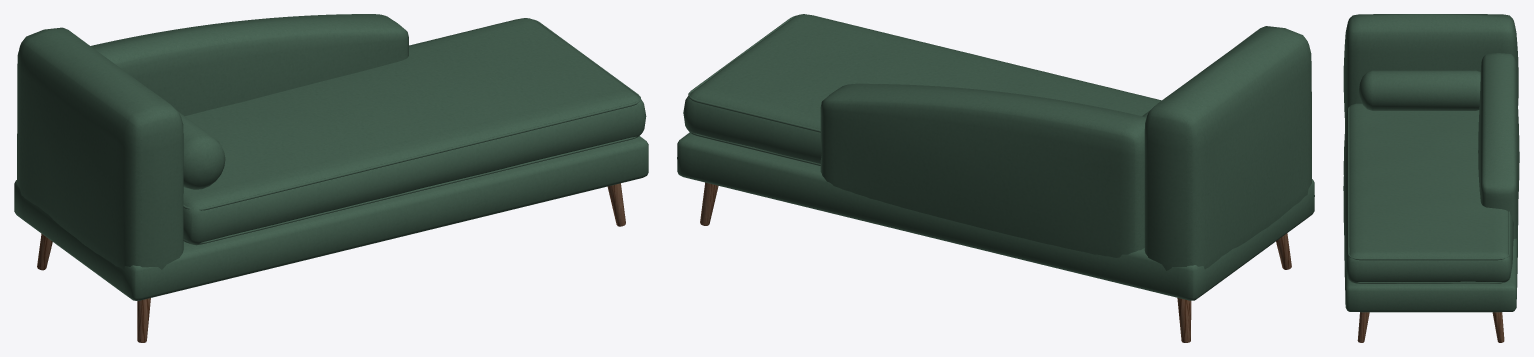
File: meridiana_izquierda_verde.glb
The picture shows the model from 3 angles, left to right: view 1: azimuth 30°, elevation 25°; view 2: azimuth 150°, elevation 25°; view 3: azimuth 270°, elevation 25°; orthographic projection. The views are drawn at different scales.
Parts seen in each view (by area): view 1: meridiana_izquierda_verde; view 2: meridiana_izquierda_verde; view 3: meridiana_izquierda_verde.
Part boxes in pixels (bbox=[...]): meridiana_izquierda_verde: bbox=[14, 14, 648, 342]; meridiana_izquierda_verde: bbox=[677, 14, 1314, 342]; meridiana_izquierda_verde: bbox=[1343, 14, 1519, 342].
Size of the model in its own units: 1.86 by 0.8212 by 0.7806.
Materials: 2 (2 with a texture image).
